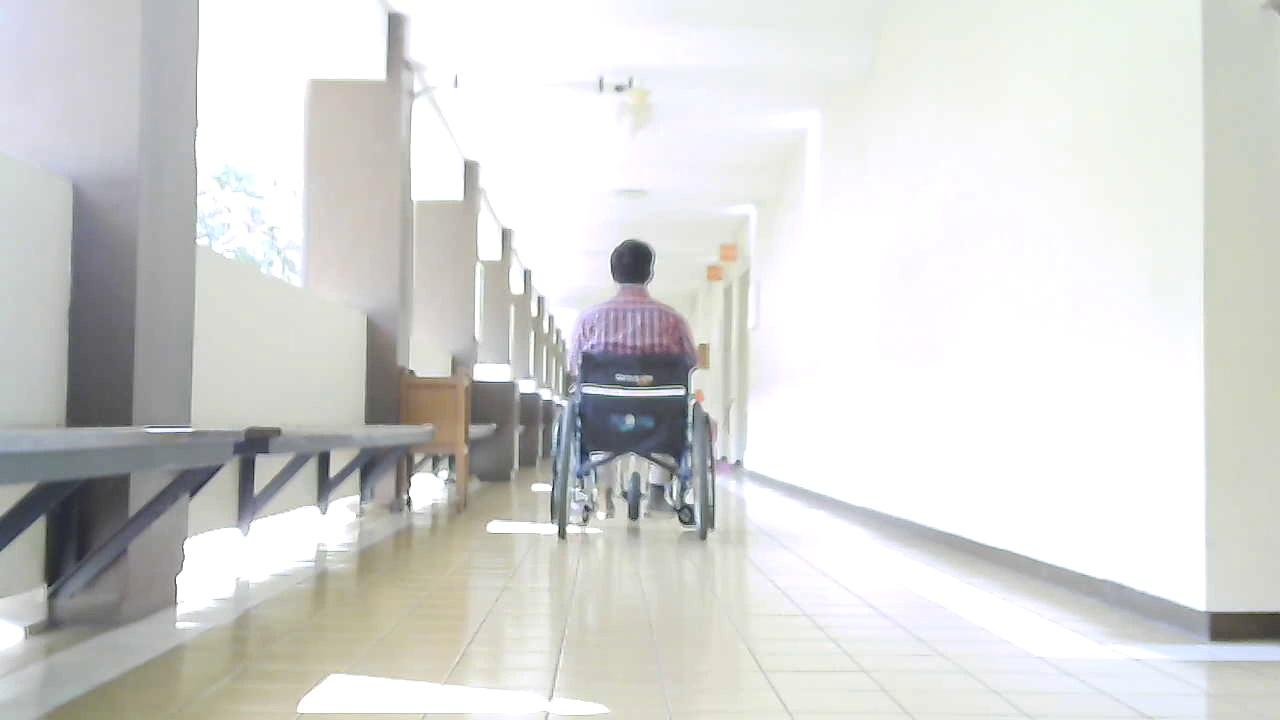wheelchair: (537, 340, 728, 551)
